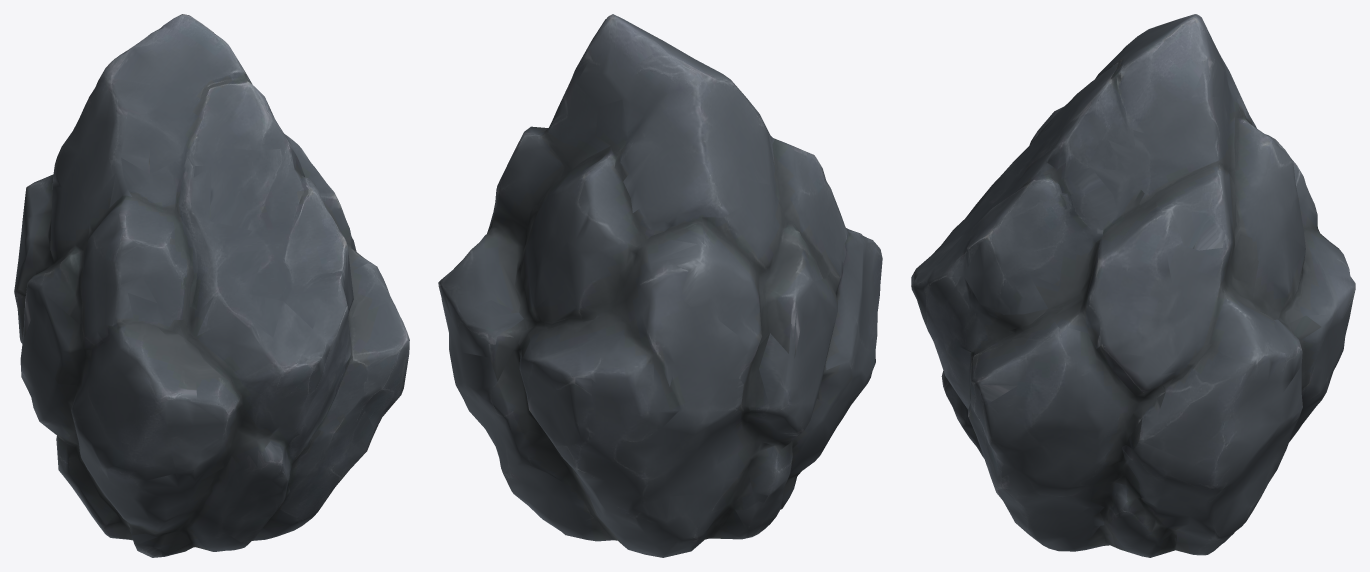
The model's file is selected_sliceable.glb.
3 views of the same model, side by side, from view 1: azimuth 30°, elevation 25°; view 2: azimuth 150°, elevation 25°; view 3: azimuth 270°, elevation 25° (orthographic). The views are drawn at different scales.
Visible parts, largest first — view 1: WORK_Rock; view 2: WORK_Rock; view 3: WORK_Rock.
Boxes of the visible parts, x1,y1,x2,y2 form: WORK_Rock: (14, 14, 409, 557); WORK_Rock: (438, 14, 882, 557); WORK_Rock: (911, 14, 1355, 557).
Size of the model in its own units: 0.6627 by 0.9936 by 0.7808.
1 material, 1 textured.
